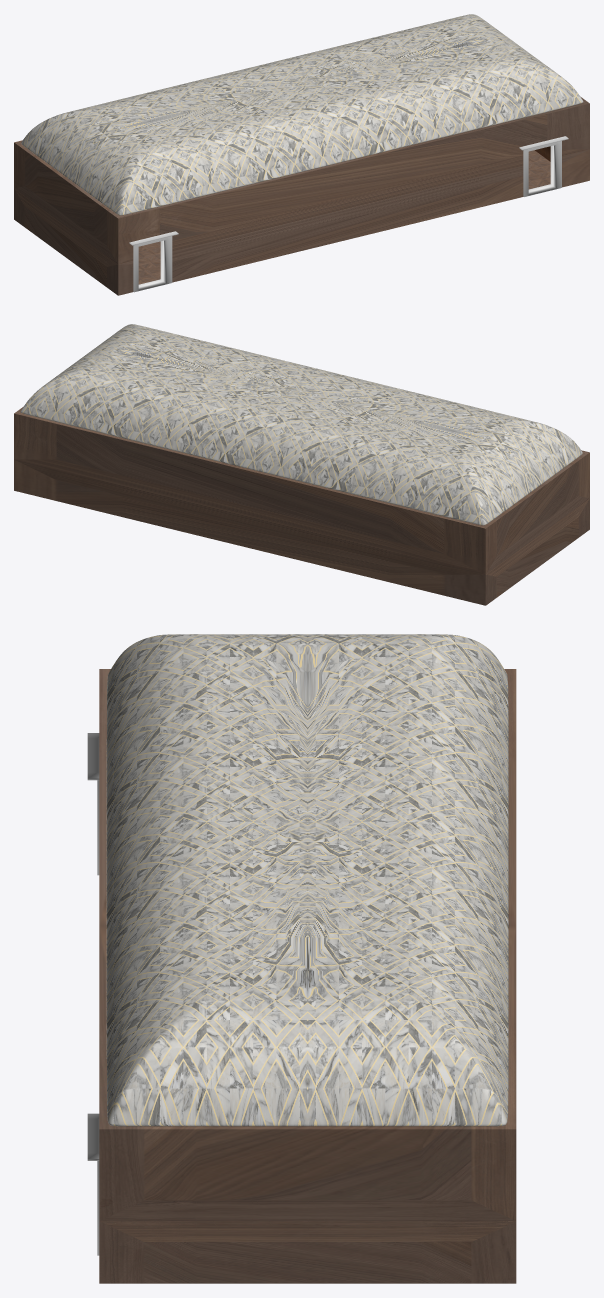
Rendered from Mesuem_2.fbx.
3 renders of one model, top to bottom at view 1: azimuth 30°, elevation 25°; view 2: azimuth 150°, elevation 25°; view 3: azimuth 270°, elevation 25°, orthographic. The views are drawn at different scales.
Parts seen in each view (by area): view 1: Plane, Cube.001, Cube.003, Cube.002; view 2: Plane, Cube.001; view 3: Plane, Cube.001, Cube.002, Cube.003.
Boxes of the visible parts, left/top/right/bottom form: Plane: left=21, top=14, right=583, bottom=215; Cube.001: left=14, top=97, right=589, bottom=295; Cube.003: left=129, top=231, right=178, bottom=292; Cube.002: left=519, top=136, right=568, bottom=196; Plane: left=20, top=324, right=582, bottom=525; Cube.001: left=14, top=407, right=589, bottom=605; Plane: left=106, top=634, right=508, bottom=1126; Cube.001: left=99, top=669, right=516, bottom=1283; Cube.002: left=87, top=1113, right=99, bottom=1255; Cube.003: left=87, top=733, right=99, bottom=875.
Bounding box in the file's own units: 2190 × 515 × 861.
